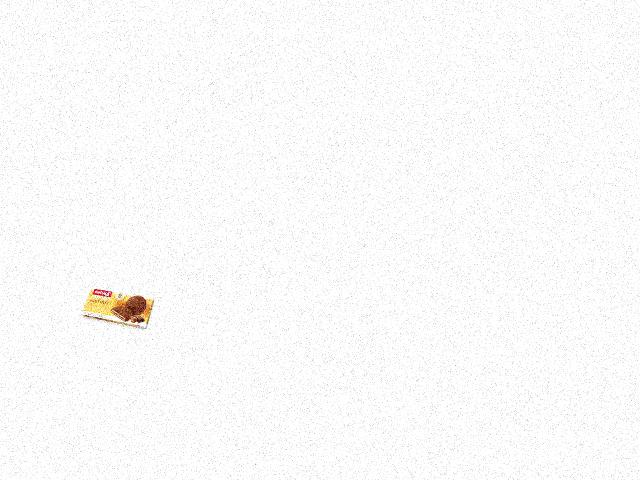chocolate: (70, 287, 158, 321)
